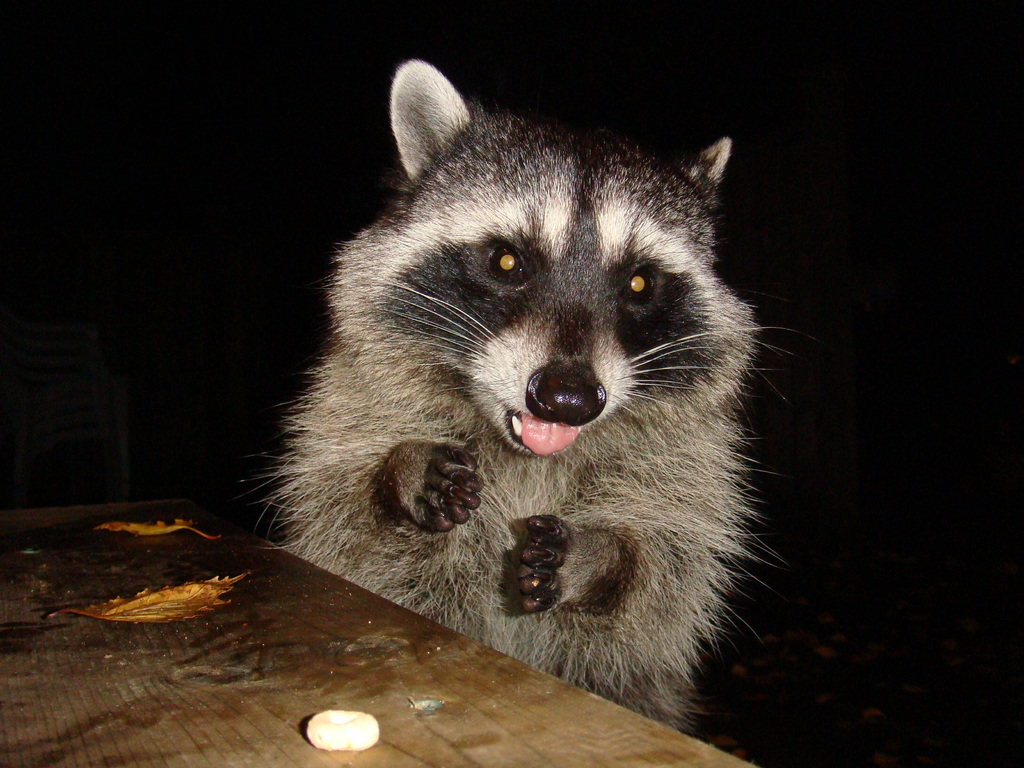raccoon: (268, 57, 752, 736)
